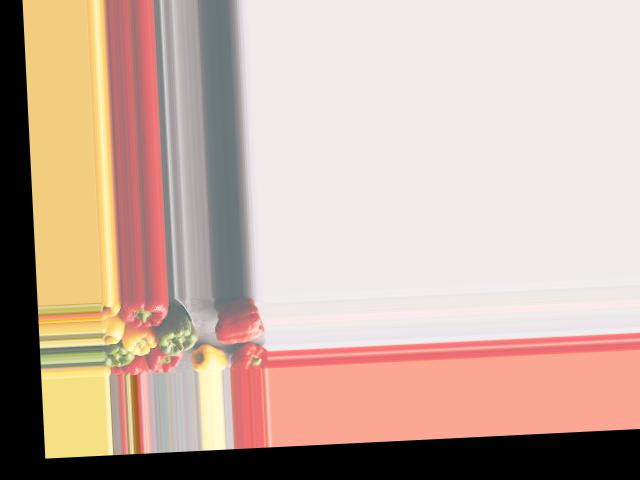bell_pepper: (229, 343, 269, 367)
